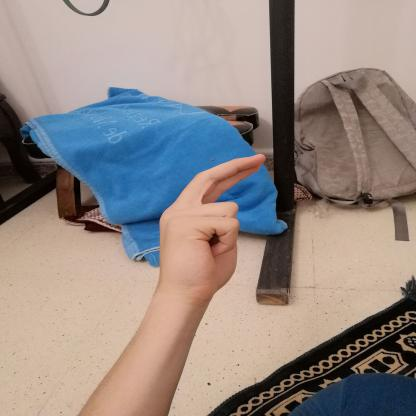ZAY: (150, 147, 278, 302)
